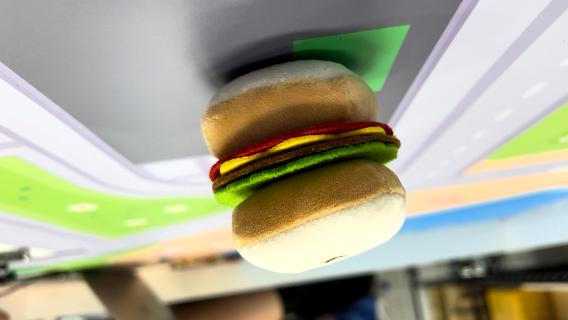sandwich: (198, 56, 409, 274)
